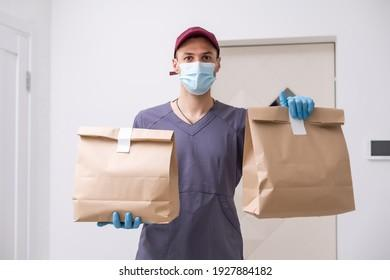gloves: (279, 93, 315, 120), (97, 212, 151, 230)
